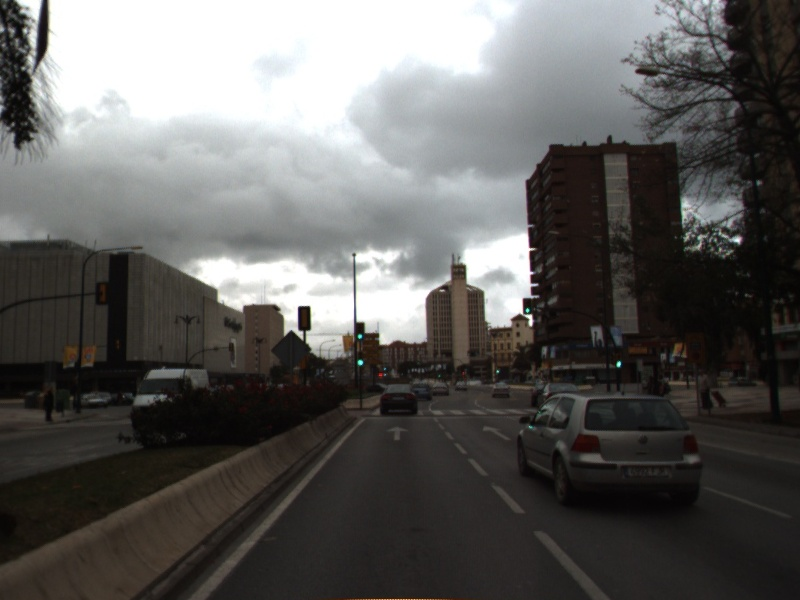STRAIGHT: (480, 423, 514, 442), (384, 424, 411, 442)
